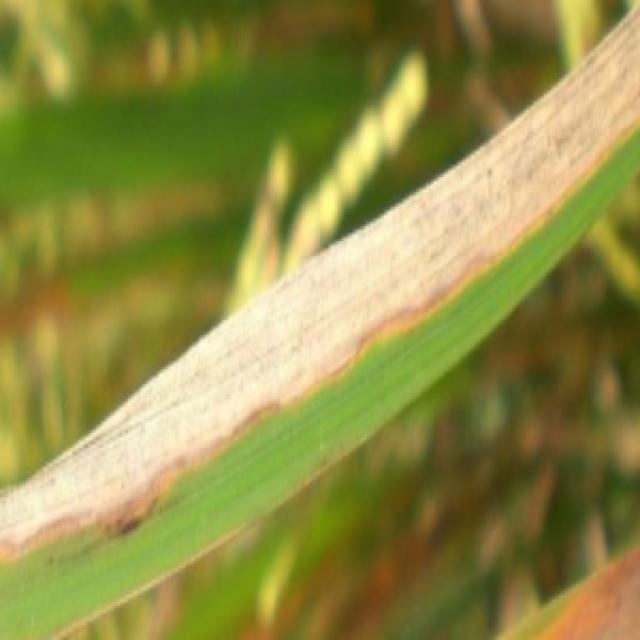Bacterial_Blight: (0, 0, 640, 563), (525, 547, 640, 640)
